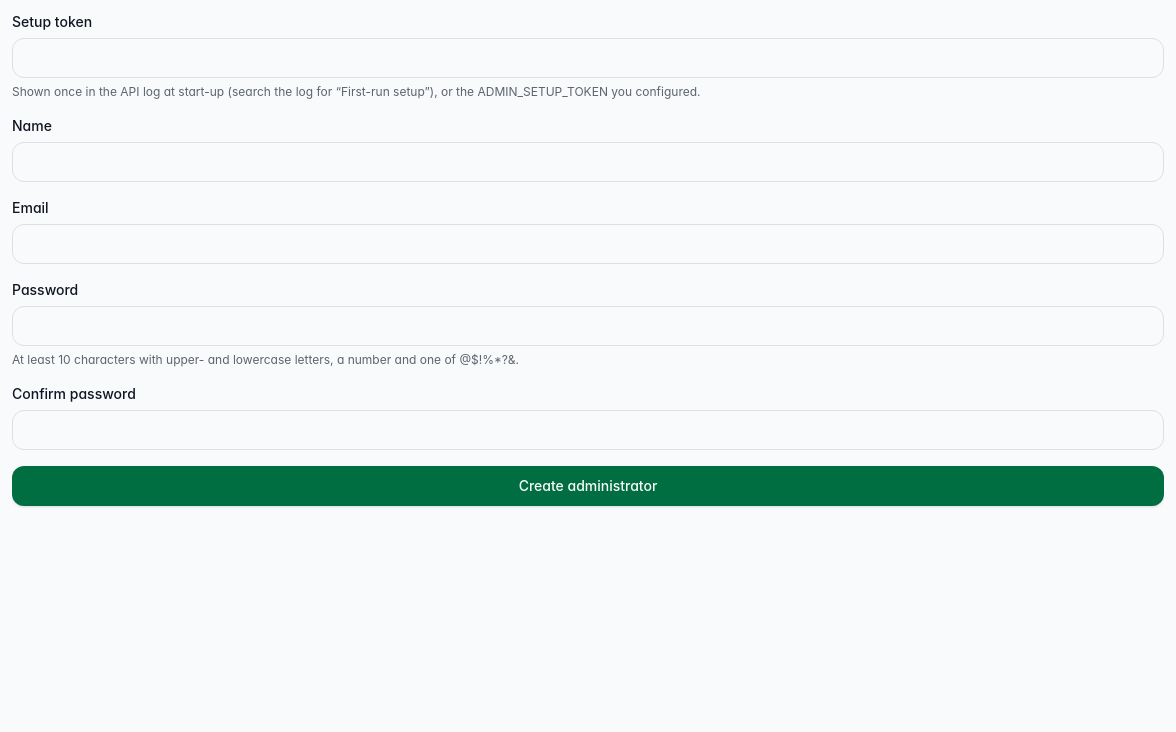
Scenario: first-run setup › shows the API's refusal for a wrong token
Type "wrong-token-000" into the field labelled "Setup token".
click(588, 58); type("wrong-token-000")  # box 12,38 -> 1164,78
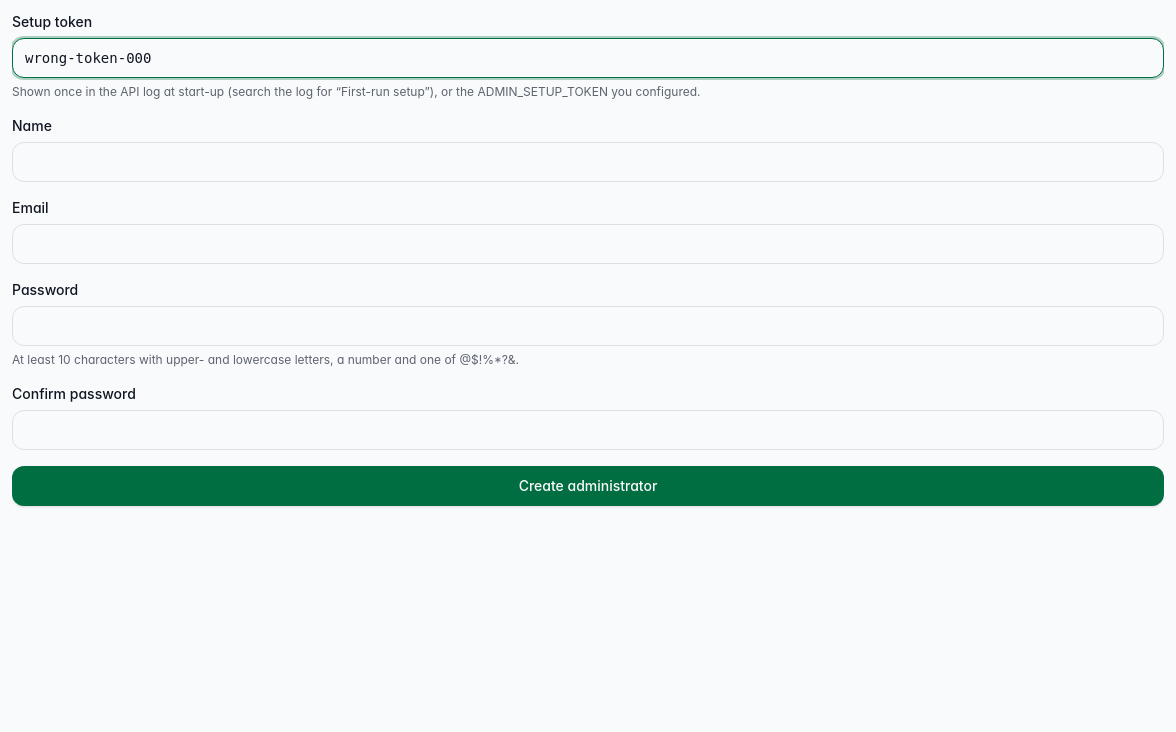
Type "Site Owner" into the field labelled "Name".
click(588, 162); type("Site Owner")  # box 12,142 -> 1164,182
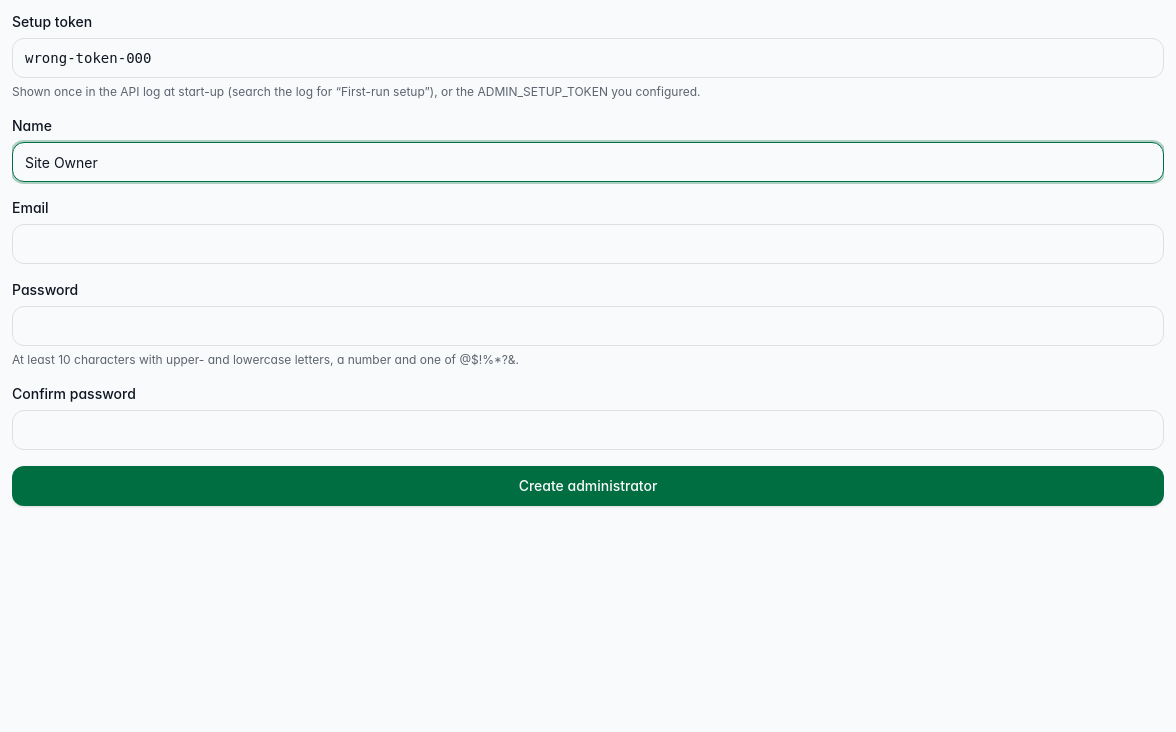
Type "owner@example.com" into the field labelled "Email".
click(588, 244); type("owner@example.com")  # box 12,224 -> 1164,264
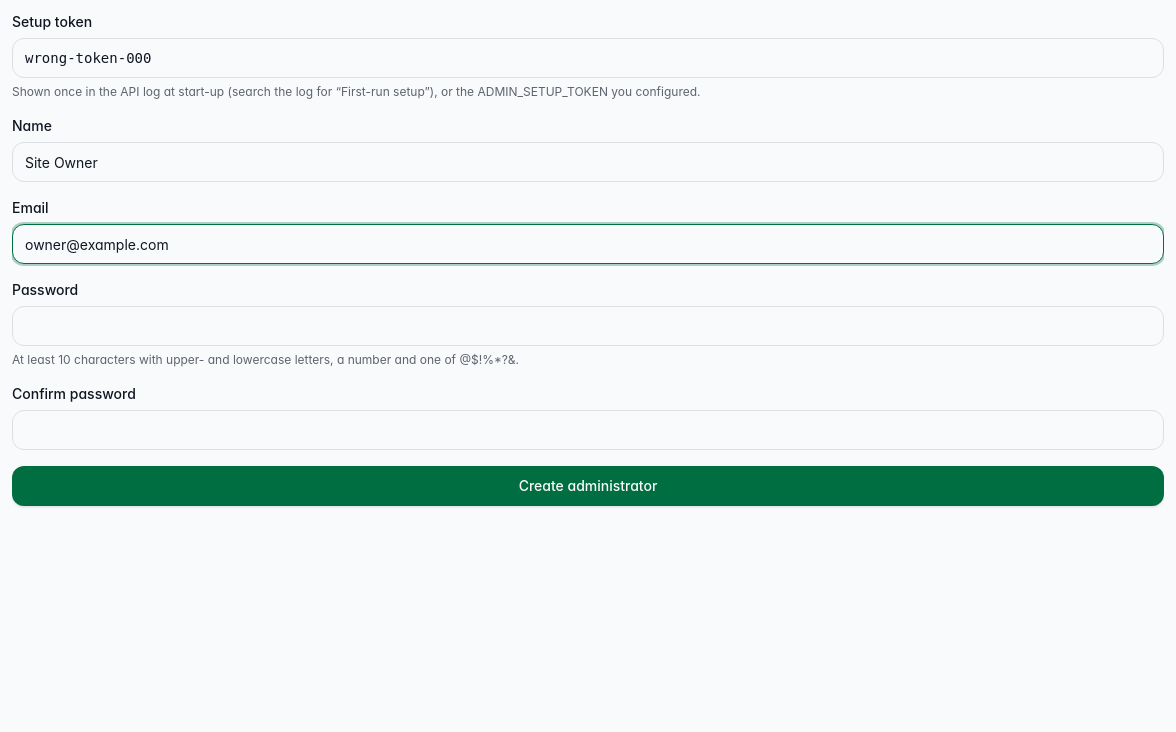
Type "Correct-horse-42!" into the password field labelled "Password".
click(588, 326); type("Correct-horse-42!")  # box 12,306 -> 1164,346
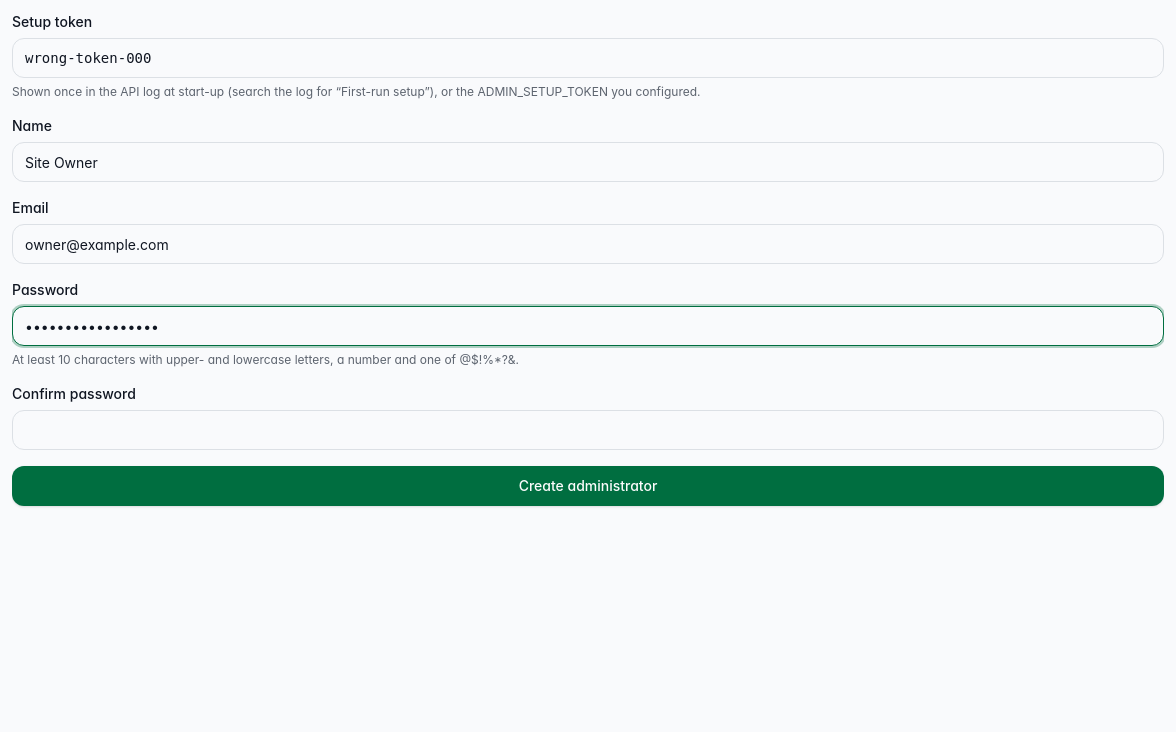
Type "Correct-horse-42!" into the password field labelled "Confirm password".
click(588, 430); type("Correct-horse-42!")  # box 12,410 -> 1164,450
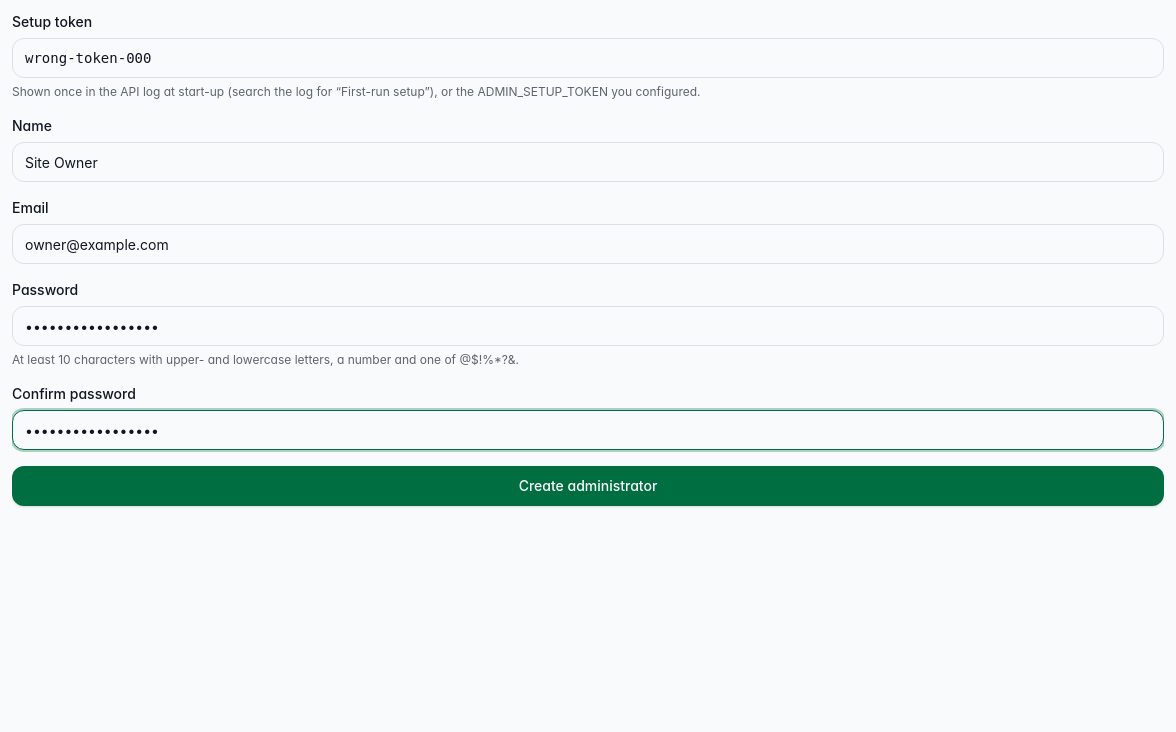
Click the button "Create administrator".
click(588, 486)  # box 12,466 -> 1164,506
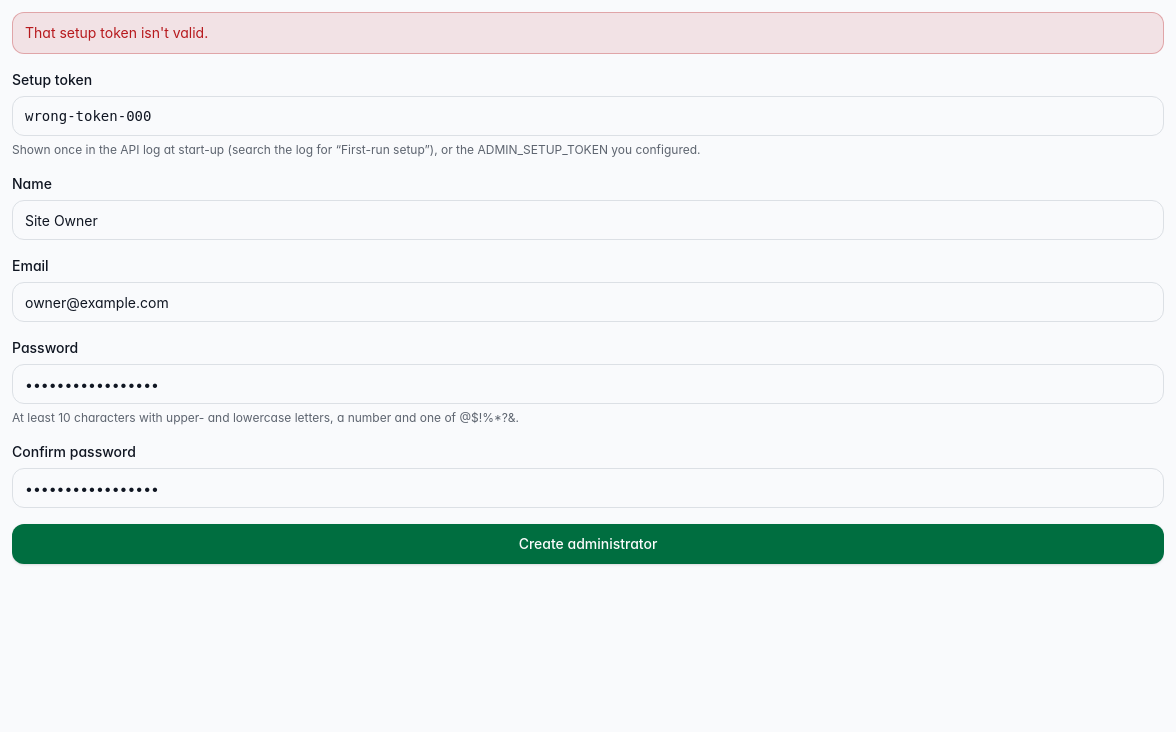
Expected: the message reads "That setup token isn't valid.", 25,24 -> 208,41
